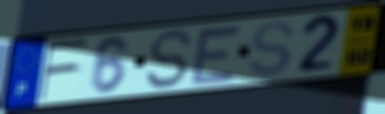2: (293, 12, 347, 78)
6: (87, 34, 135, 96)
E: (188, 24, 245, 87)
F: (37, 36, 92, 103)
S: (144, 28, 194, 90), (246, 20, 298, 79)
